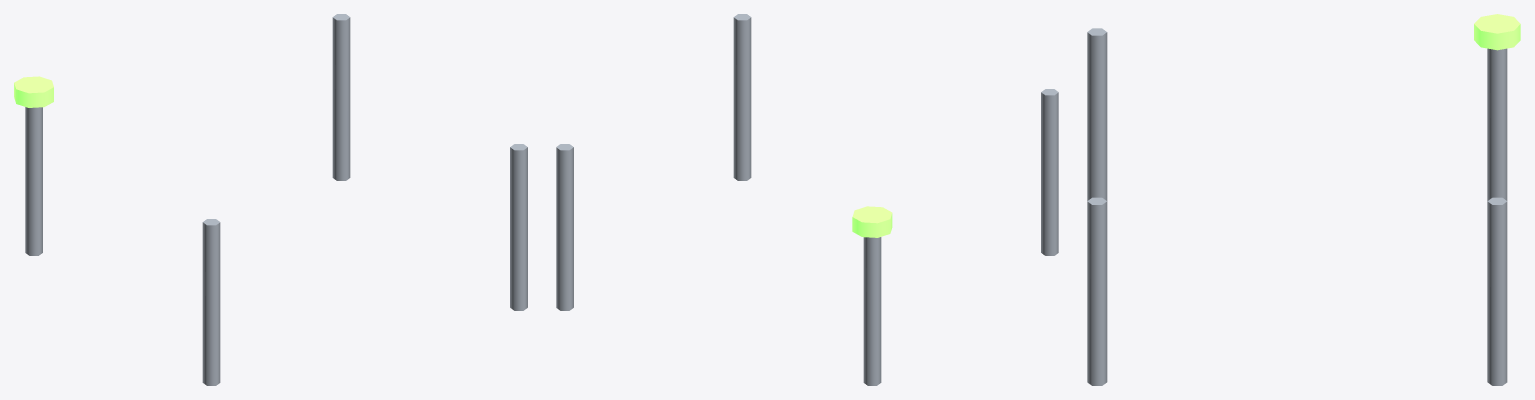
File: tower_detector_field_s2.glb
3 renders of one model, left to right at view 1: azimuth 30°, elevation 25°; view 2: azimuth 150°, elevation 25°; view 3: azimuth 270°, elevation 25°, orthographic. The views are drawn at different scales.
Parts seen in each view (by area): view 1: detector_stub1, detector_stub3, detector_stub2, detector_stub0, detector_up_field_l2_stud; view 2: detector_stub2, detector_stub1, detector_stub3, detector_stub0, detector_up_field_l2_stud; view 3: detector_stub1, detector_stub2, detector_stub3, detector_stub0, detector_up_field_l2_stud.
Boxes of the visible parts, box(x1,y1,x2,y2) form: detector_stub1: box(332, 14, 350, 180); detector_stub3: box(202, 219, 220, 385); detector_stub2: box(510, 144, 527, 310); detector_stub0: box(25, 107, 42, 255); detector_up_field_l2_stud: box(14, 76, 53, 107); detector_stub2: box(733, 14, 751, 180); detector_stub1: box(556, 144, 573, 310); detector_stub3: box(1041, 89, 1058, 255); detector_stub0: box(863, 237, 881, 385); detector_up_field_l2_stud: box(852, 206, 892, 237); detector_stub1: box(1487, 197, 1507, 385); detector_stub2: box(1087, 197, 1107, 385); detector_stub3: box(1087, 28, 1107, 200); detector_stub0: box(1487, 48, 1507, 200); detector_up_field_l2_stud: box(1474, 14, 1520, 50).
Size of the model in its own units: 0.5192 by 0.251 by 0.5208.
